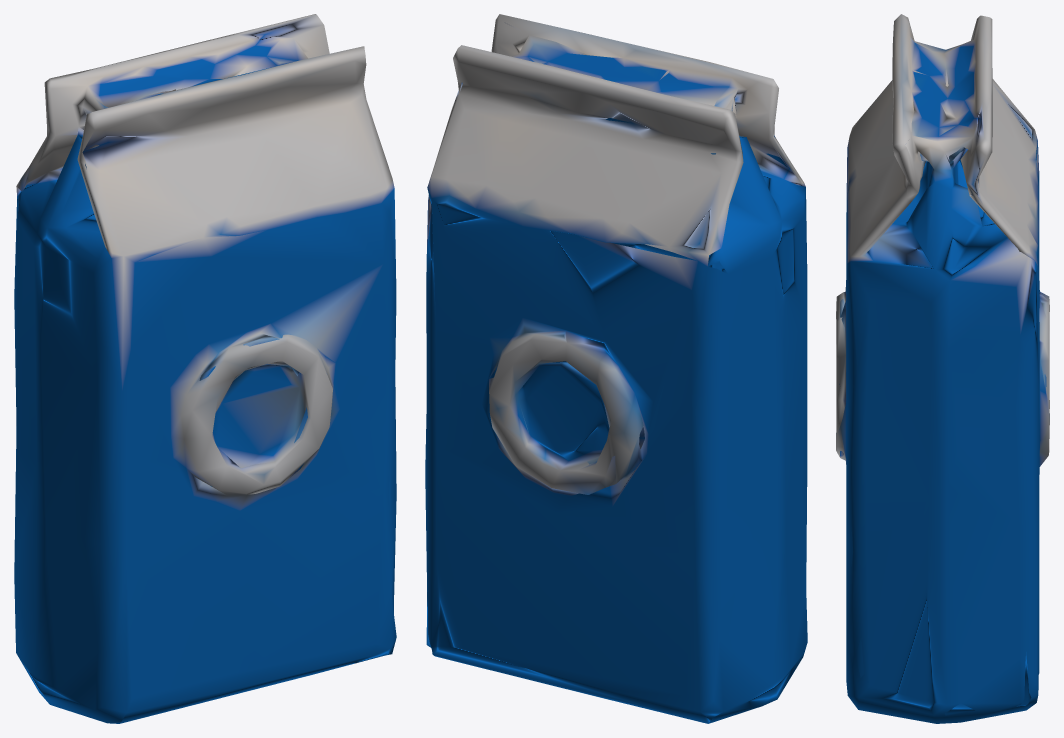
The model's file is gen3d-milk-carton-lod0.glb.
3 views of the same model, side by side, from view 1: azimuth 30°, elevation 25°; view 2: azimuth 150°, elevation 25°; view 3: azimuth 270°, elevation 25° (orthographic). The views are drawn at different scales.
Parts seen in each view (by area): view 1: part_0; view 2: part_0; view 3: part_0.
Part boxes in pixels (bbox=[...]): part_0: bbox=[14, 14, 396, 723]; part_0: bbox=[425, 14, 807, 723]; part_0: bbox=[836, 14, 1049, 723].
Size of the model in its own units: 0.5733 by 0.9999 by 0.3347.
